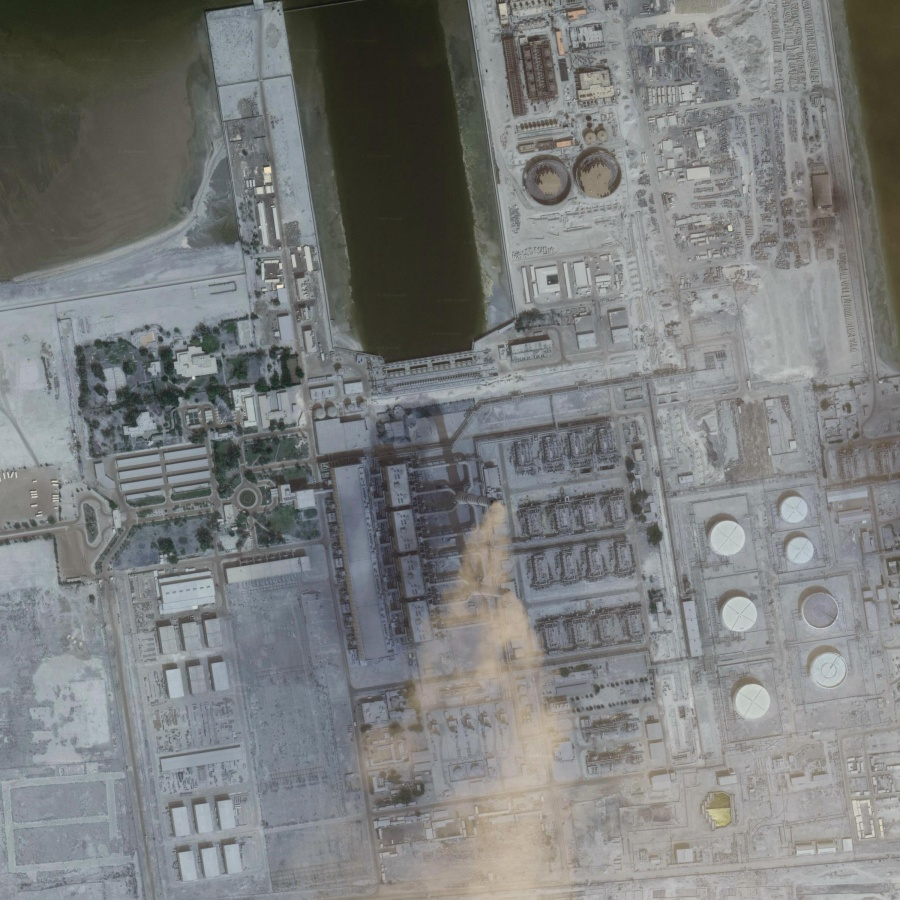PowerPlant: (333, 356, 863, 832)
